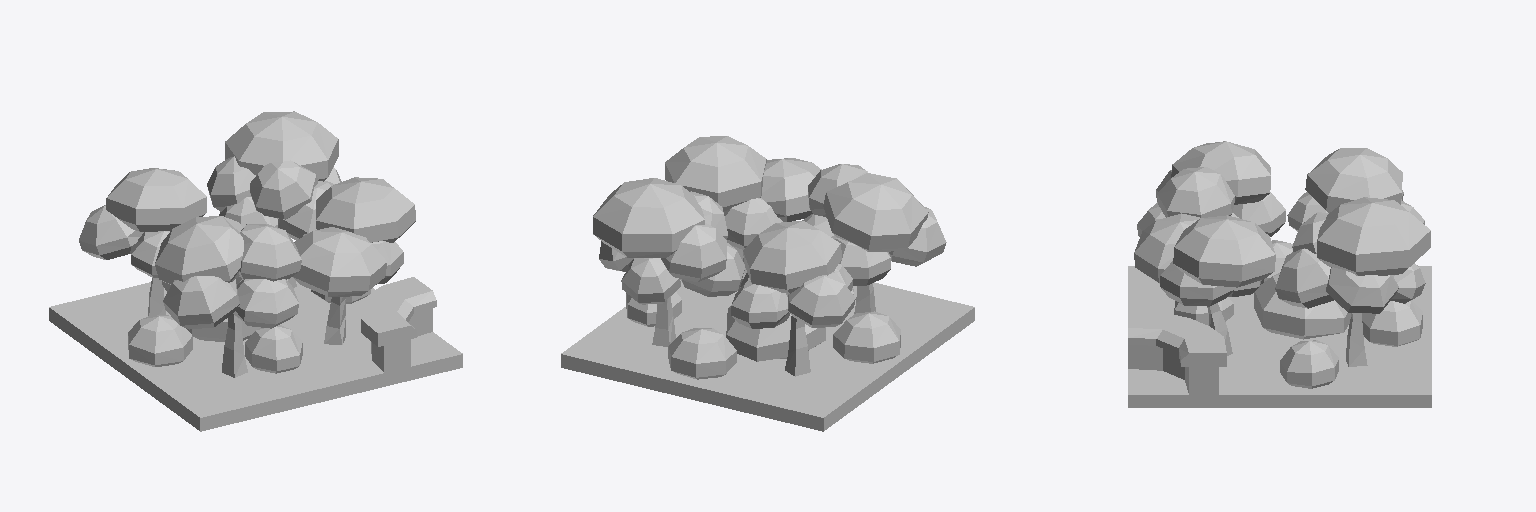
File: park_wall_innerCorner_decorated.obj
3 renders of one model, left to right at view 1: azimuth 30°, elevation 25°; view 2: azimuth 150°, elevation 25°; view 3: azimuth 270°, elevation 25°, orthographic.
Parts seen in each view (by area): view 1: park_wall_innerCorner_decorated_Cube.14196; view 2: park_wall_innerCorner_decorated_Cube.14196; view 3: park_wall_innerCorner_decorated_Cube.14196.
Boxes of the visible parts, x1=… form: park_wall_innerCorner_decorated_Cube.14196: x1=49, y1=111, x2=462, y2=431; park_wall_innerCorner_decorated_Cube.14196: x1=561, y1=136, x2=974, y2=431; park_wall_innerCorner_decorated_Cube.14196: x1=1128, y1=141, x2=1431, y2=407.
Size of the model in its own units: 2 by 1.28 by 2.